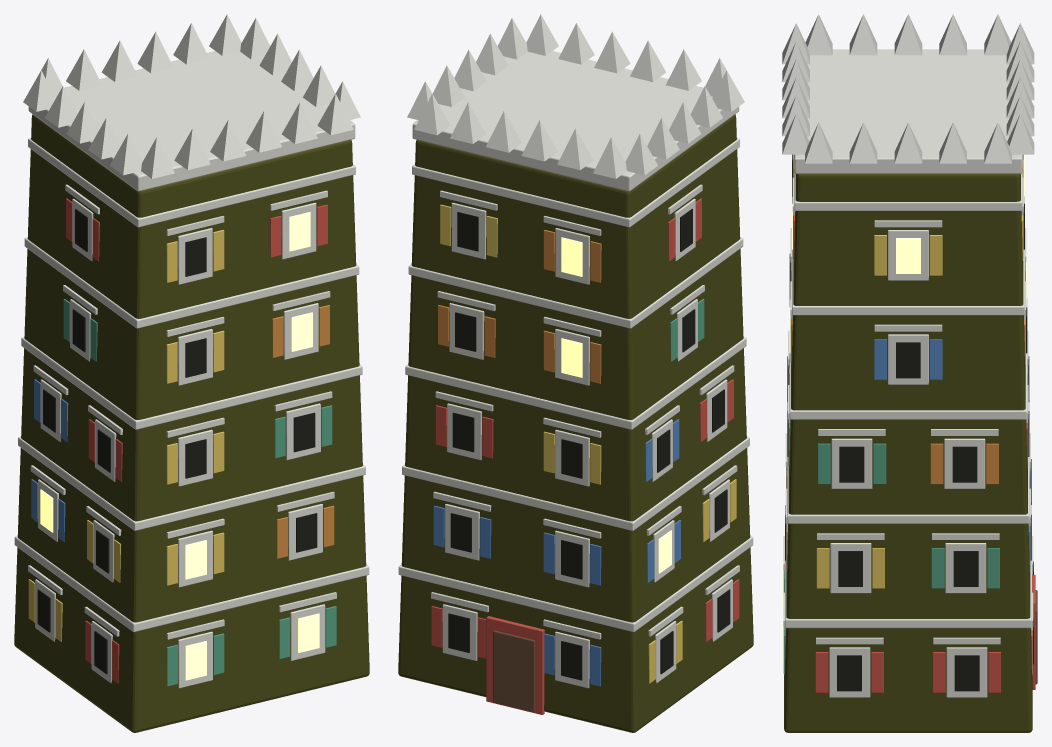
The model's file is rijal-almaa-tower.glb.
The picture shows the model from 3 angles, left to right: view 1: azimuth 30°, elevation 25°; view 2: azimuth 150°, elevation 25°; view 3: azimuth 270°, elevation 25°; orthographic projection. The views are drawn at different scales.
Visible parts, largest first — view 1: rijal-almaa-tower; view 2: rijal-almaa-tower; view 3: rijal-almaa-tower.
Part boxes in pixels (<box>): rijal-almaa-tower: <box>14,14,369,732</box>; rijal-almaa-tower: <box>398,14,753,732</box>; rijal-almaa-tower: <box>782,14,1037,732</box>.
Size of the model in its own units: 8.05 by 18.85 by 7.17.
Materials: 3 (3 with a texture image).
